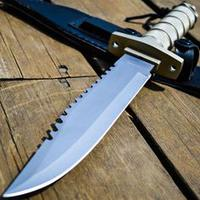knife: (1, 9, 186, 200)
